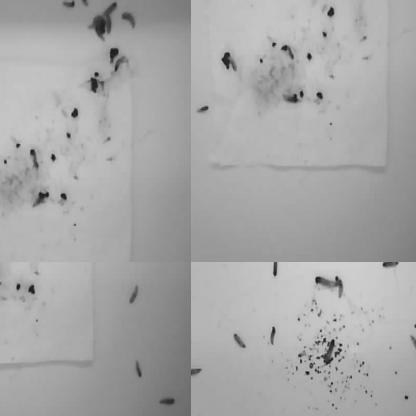PtecticusTenebrifer: (122, 11, 136, 31), (316, 276, 339, 288), (128, 283, 141, 304), (233, 333, 248, 351), (282, 91, 299, 105), (102, 3, 117, 17), (158, 397, 176, 408), (225, 57, 238, 72), (408, 332, 416, 355), (115, 57, 127, 72), (134, 358, 143, 378), (196, 103, 209, 115), (286, 45, 295, 62), (385, 0, 398, 11), (191, 365, 202, 377), (0, 28, 7, 45), (63, 0, 76, 9), (270, 327, 276, 346), (381, 262, 399, 268), (107, 13, 112, 34), (276, 262, 290, 269), (358, 0, 371, 7), (338, 0, 346, 11), (0, 153, 4, 174), (273, 262, 278, 277), (360, 0, 367, 9), (191, 0, 196, 12), (191, 262, 197, 272), (191, 49, 194, 68), (344, 0, 351, 8), (375, 0, 381, 9), (17, 262, 30, 266), (356, 0, 362, 8), (0, 262, 4, 274), (371, 0, 375, 9), (412, 321, 416, 330)
